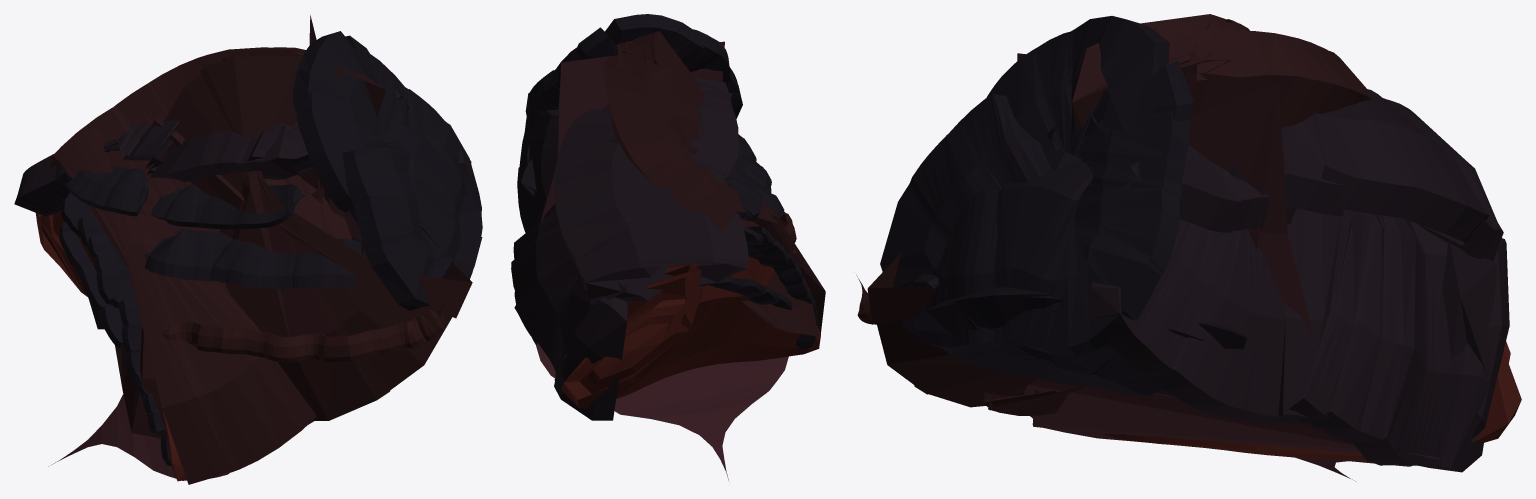
File: Stone_World2_01.fbx
3 views of the same model, side by side, from view 1: azimuth 30°, elevation 25°; view 2: azimuth 150°, elevation 25°; view 3: azimuth 270°, elevation 25° (orthographic). The views are drawn at different scales.
Visible parts, largest first — view 1: NewLayer0; view 2: NewLayer0; view 3: NewLayer0.
Part boxes in pixels (x1,y1,x2,y2): NewLayer0: (14, 15, 482, 484); NewLayer0: (511, 14, 825, 480); NewLayer0: (856, 14, 1521, 481).
Size of the model in its own units: 0.1421 by 0.169 by 0.1744.
